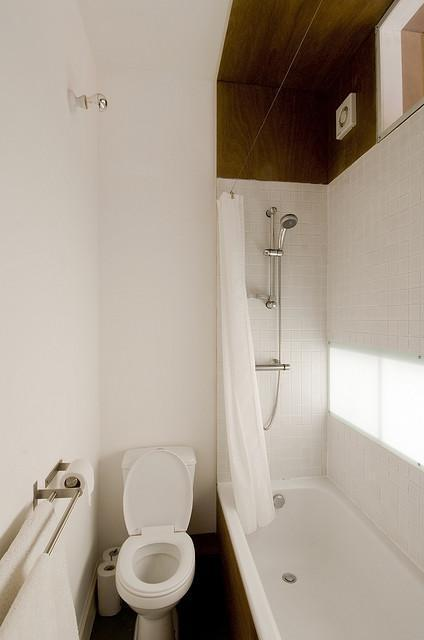Ducha: (211, 165, 337, 494)
Sanitario: (110, 445, 203, 633)
